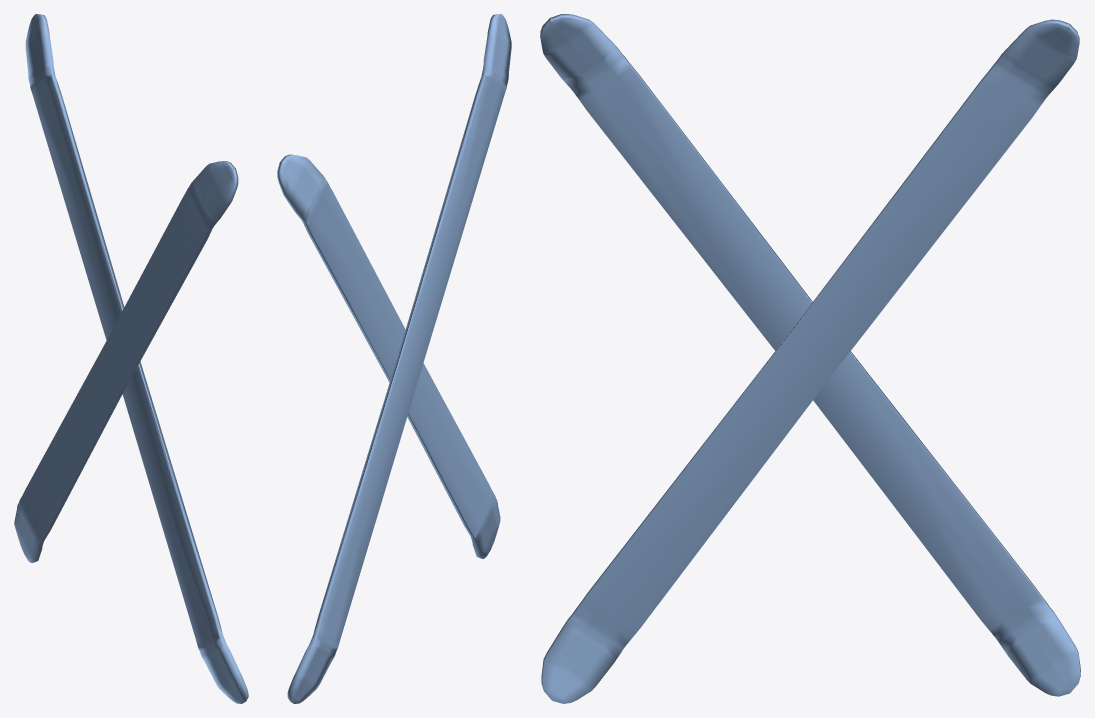
File: Ski.fbx
3 renders of one model, left to right at view 1: azimuth 30°, elevation 25°; view 2: azimuth 150°, elevation 25°; view 3: azimuth 270°, elevation 25°, orthographic. The views are drawn at different scales.
Parts seen in each view (by area): view 1: Cube, Cube.001; view 2: Cube.001, Cube; view 3: Cube, Cube.001.
Part boxes in pixels (<box>): Cube: <box>25,14,248,703</box>; Cube.001: <box>14,161,238,562</box>; Cube.001: <box>287,14,511,703</box>; Cube: <box>277,154,500,558</box>; Cube: <box>541,19,1079,703</box>; Cube.001: <box>540,14,1080,696</box>.
Bounding box in the file's own units: 22.18 × 392 × 281.
